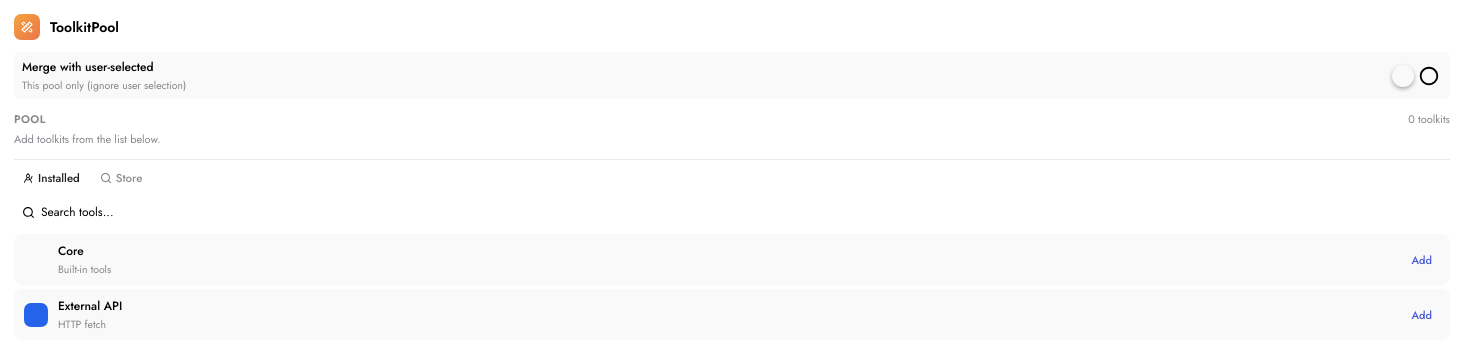
Test case: ToolPoolPanel — installed list › search filters installed list by name and tool name
The image size is (1464, 346).
Expected: the text "Core" is shown, 58,242 -> 84,260
Step 1. Type "fetch" into the field with placeholder "Search tools..." → (742, 212), box 41,203 -> 1442,221
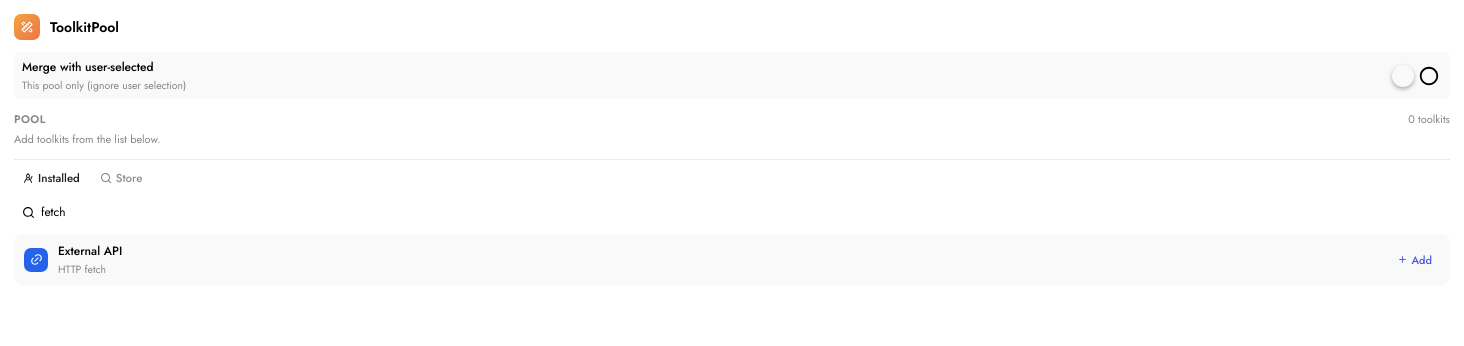
Expected: the text "External API" is shown, 58,242 -> 122,260
Expected: the text "Core" is gone
